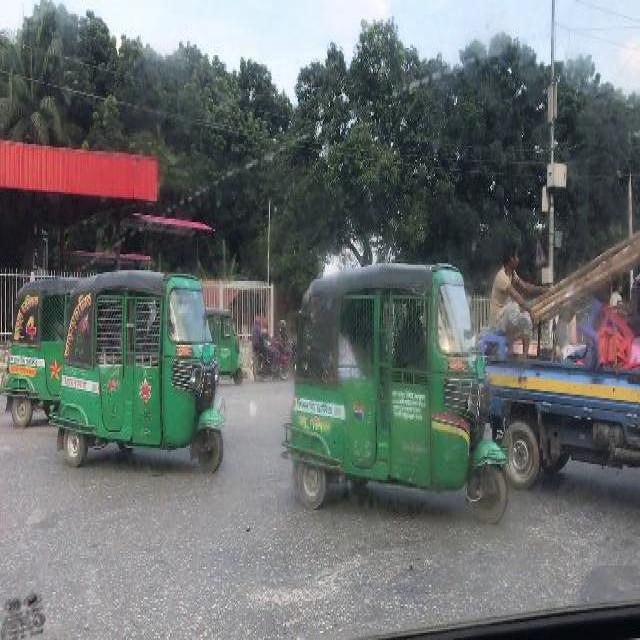bike: (251, 340, 289, 384)
vehicle: (296, 264, 482, 520), (61, 270, 225, 469), (483, 325, 640, 505), (1, 277, 63, 430), (212, 309, 246, 391)
